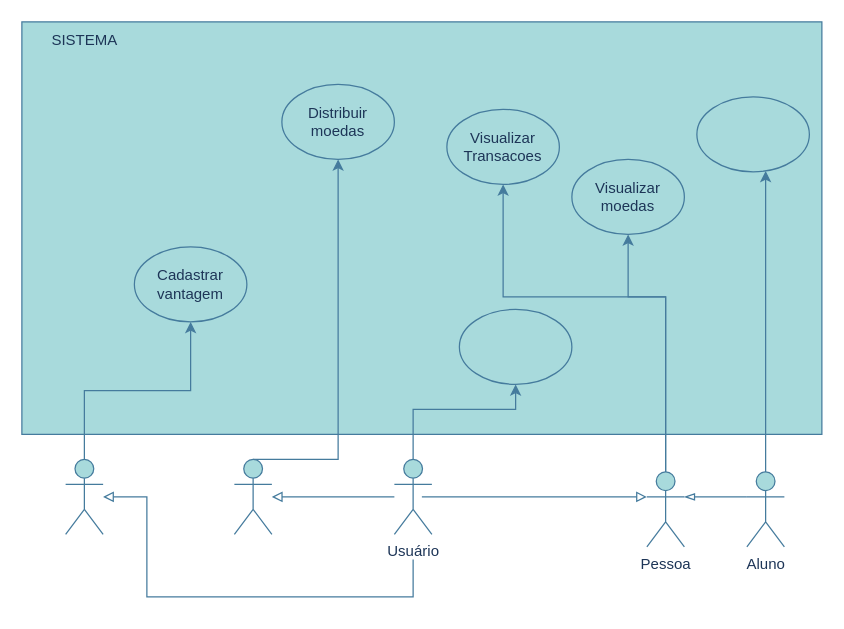
Image size: 844x629. Some labels were removed from this diagram. Each missing label, with the centre of its shape:
"Empresa" belongs at point 83,496.
"Fazer login" belongs at point 515,346.
"Professor" belongs at point 252,496.
"Trocar moedas" belongs at point 752,134.
